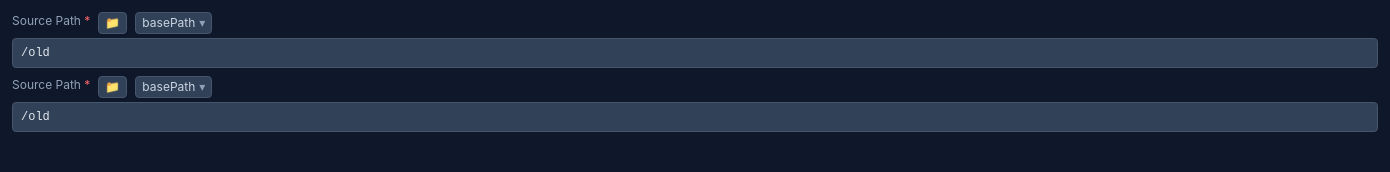
Test case: PathField › typing in linked PathField syncs value to other fields linked to same variable
Replace the text in the field labelled "Source Path *" with "/new" at x=695, y=53, box [12,38,1378,68]
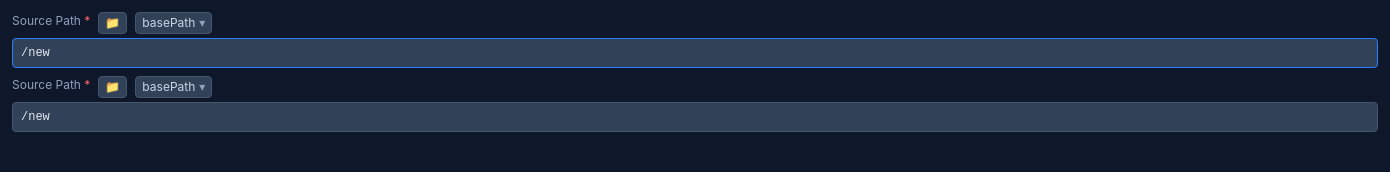
Expected: the 2nd field holds "/new", [12,102,1378,132]
